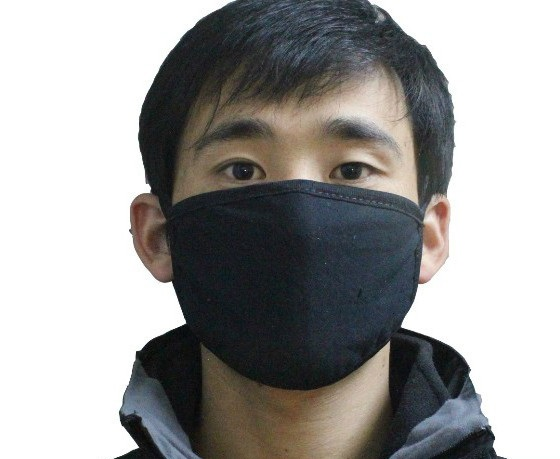face_mask: (179, 58, 421, 372)
